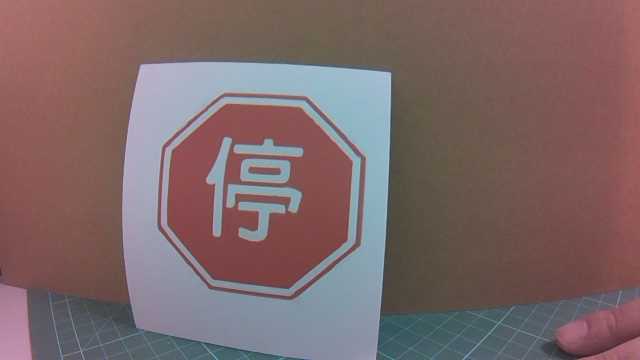stop: (165, 97, 351, 303)
